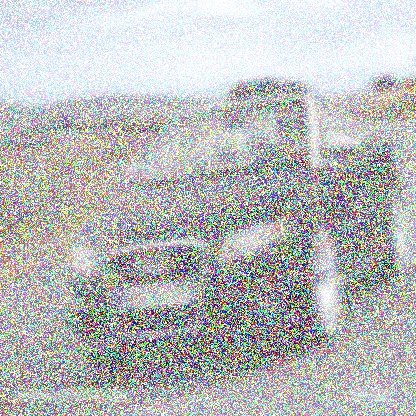Vehicle: (68, 89, 410, 370)
